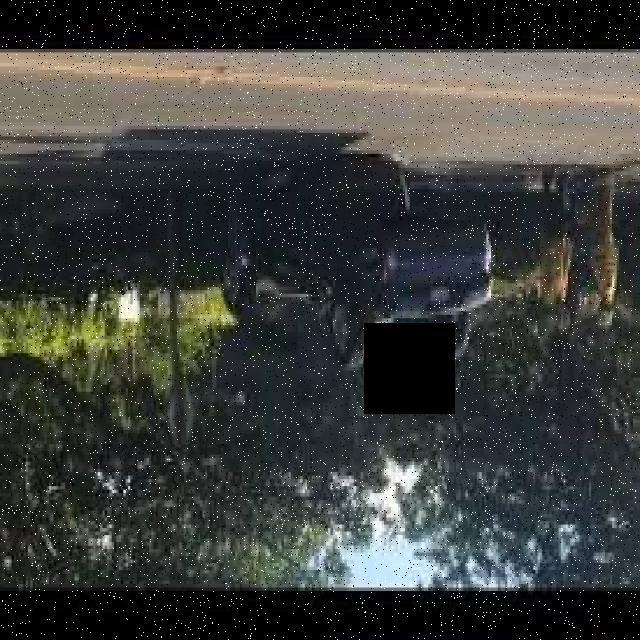severe: (217, 148, 497, 370)
